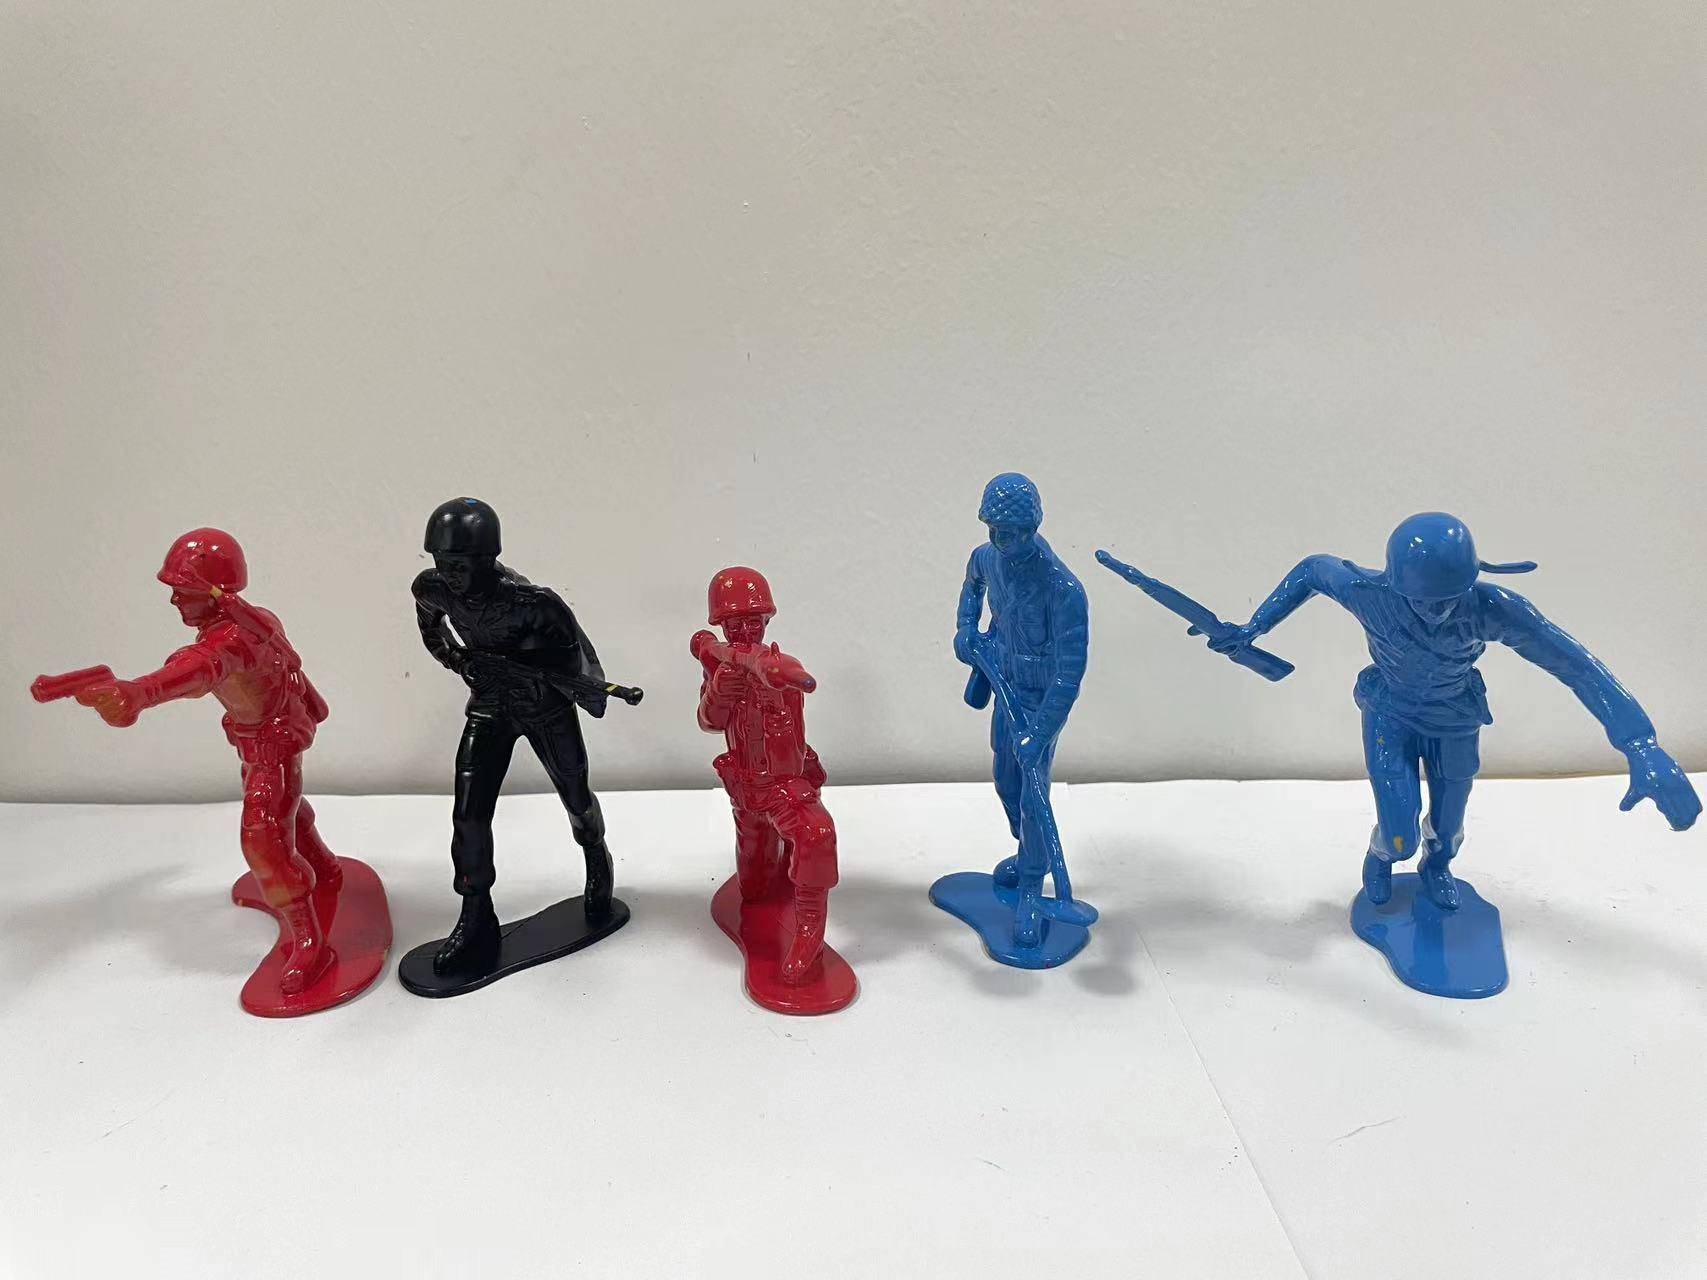black: (394, 479, 664, 1023)
blue: (1081, 472, 1692, 1038), (905, 433, 1095, 1033)
red: (667, 546, 874, 1053)
